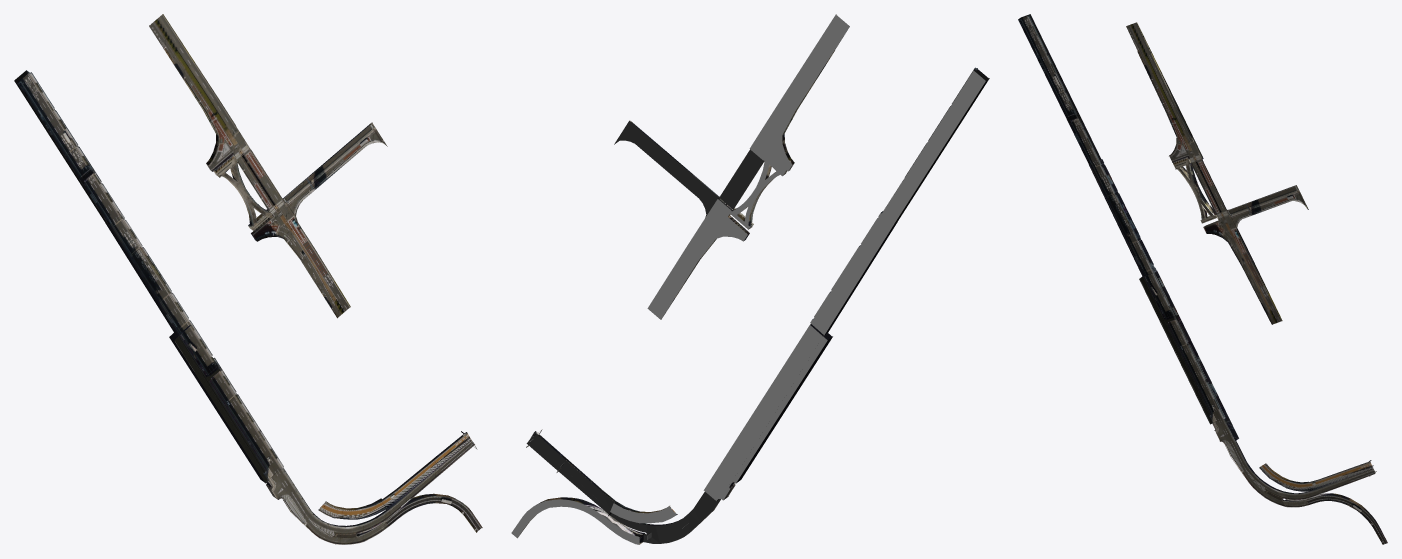
File: 53392652_brid_6677.obj
3 renders of one model, left to right at view 1: azimuth 30°, elevation 25°; view 2: azimuth 150°, elevation 25°; view 3: azimuth 330°, elevation 25°, orthographic. The views are drawn at different scales.
Bounding box in the file's own units: 483 × 586 × 16.49.
